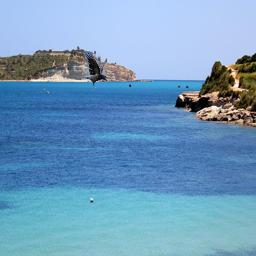Crow: (82, 51, 108, 91)
